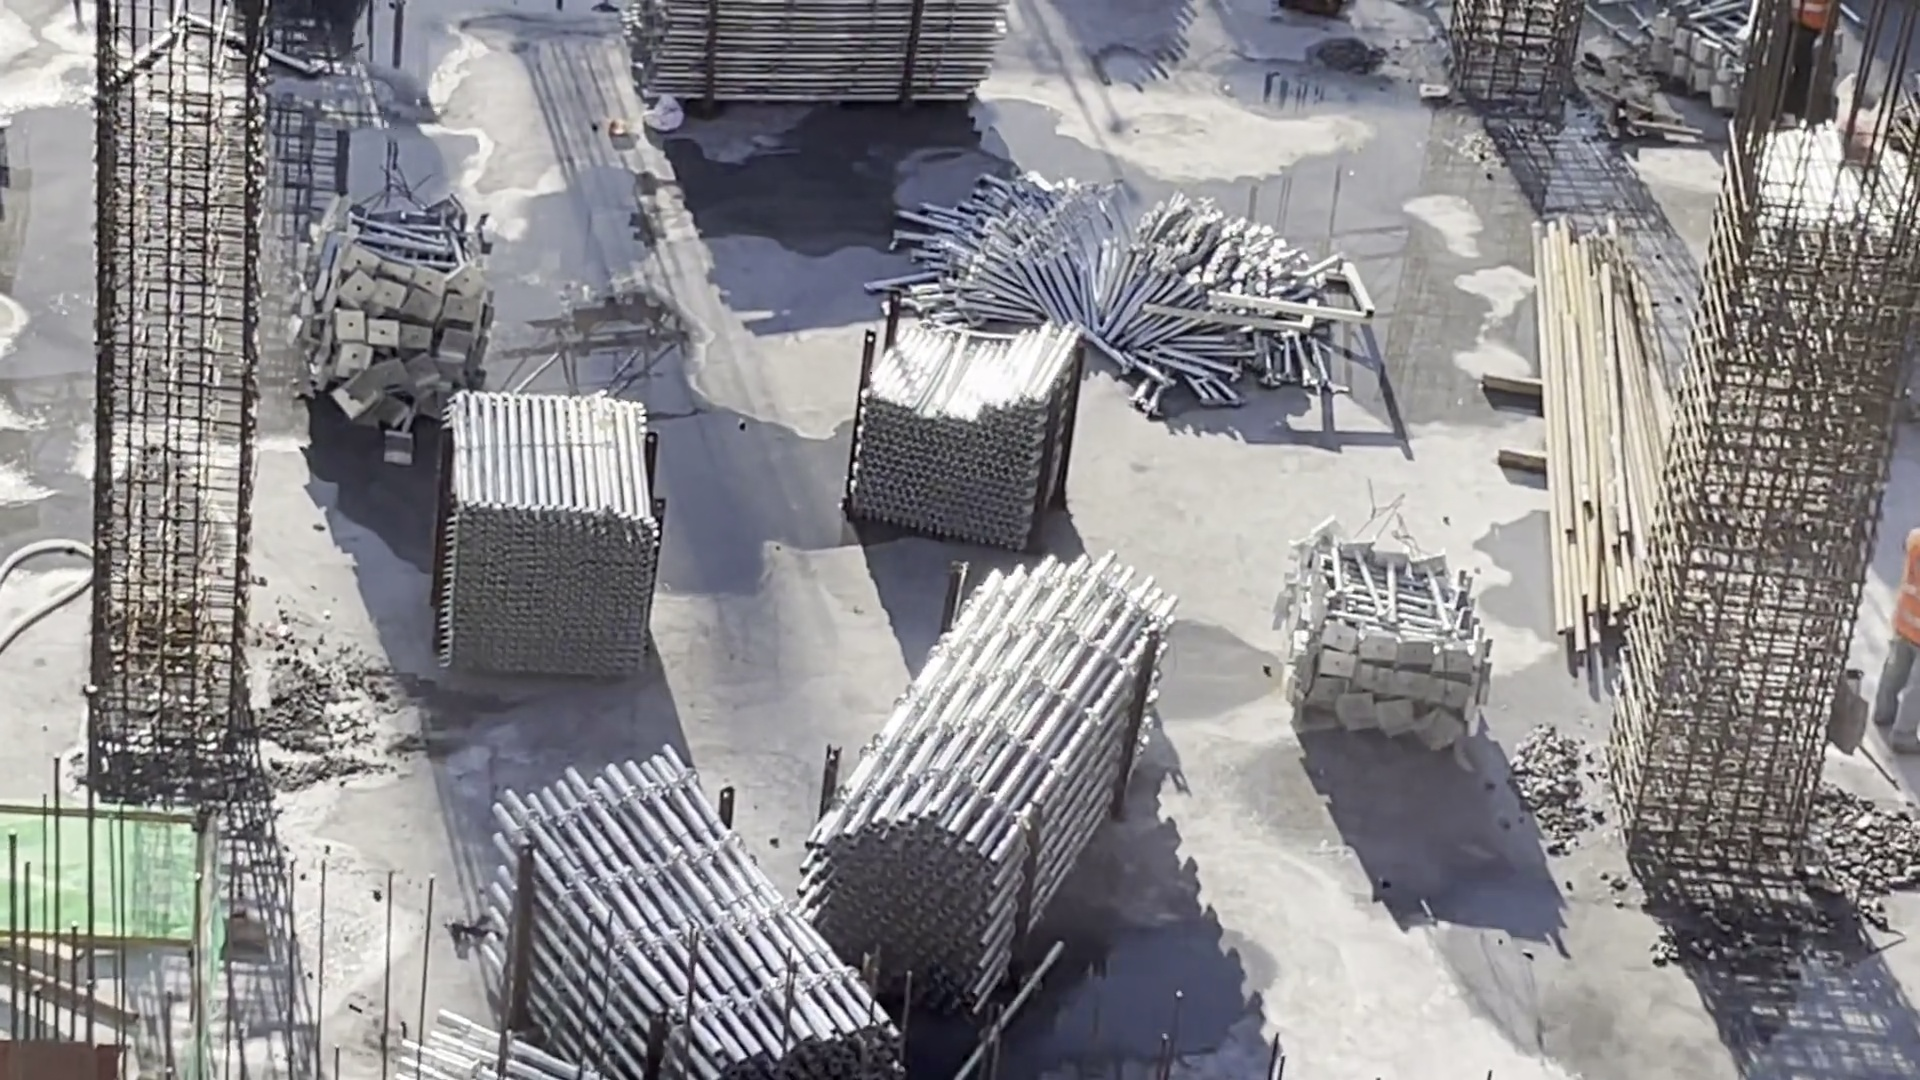person: (1859, 507, 1920, 758)
scaffold: (802, 557, 1159, 973), (473, 755, 872, 1080), (919, 162, 1324, 400), (443, 388, 663, 674), (837, 298, 1071, 543), (625, 1, 1055, 116), (296, 194, 494, 435), (1278, 526, 1491, 749)
vest: (1892, 518, 1920, 642)
